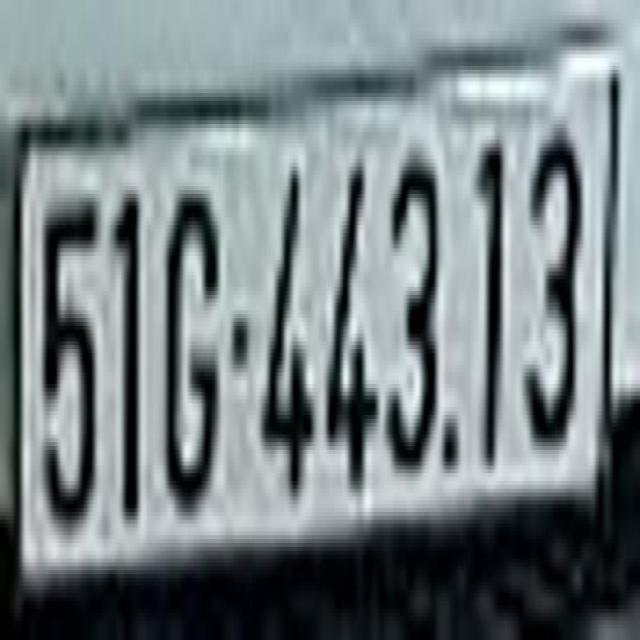1: (104, 163, 154, 551), (469, 105, 514, 492), (590, 93, 632, 493)
3: (525, 89, 584, 481), (382, 128, 440, 485)
4: (256, 148, 316, 528), (322, 144, 376, 504)
5: (38, 159, 98, 566)
G: (160, 167, 222, 531)
